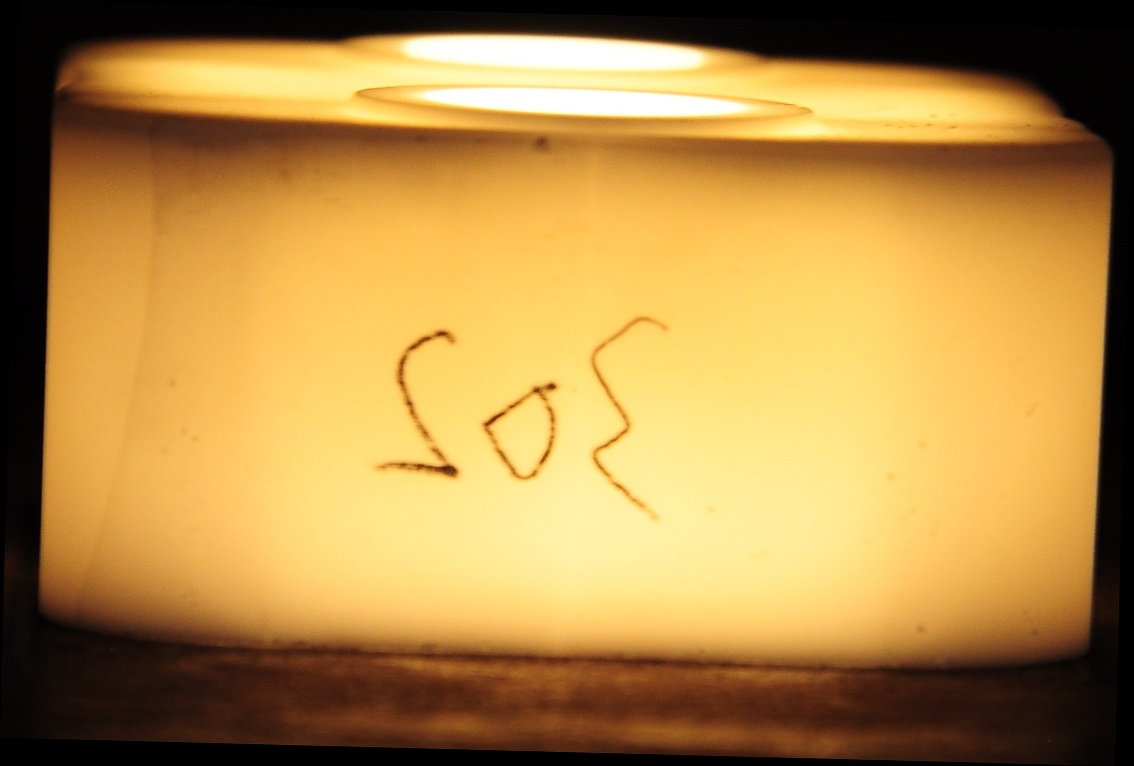flaw: (67, 105, 180, 626)
hiatus: (521, 126, 557, 156)
